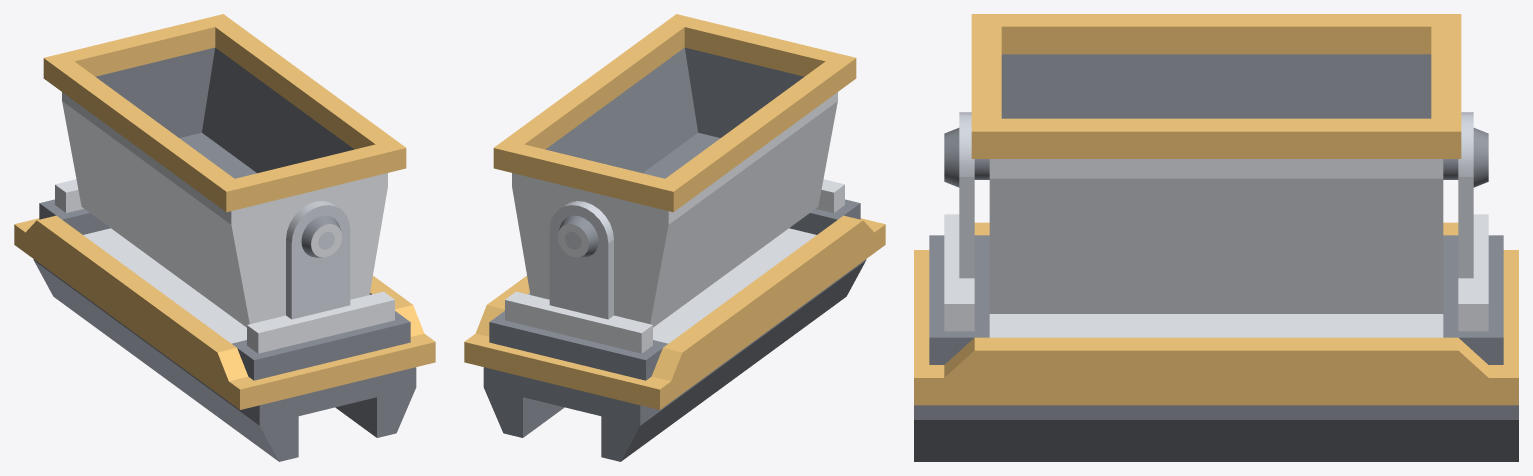
The model's file is monorailtrainCargo-col.glb.
3 views of the same model, side by side, from view 1: azimuth 30°, elevation 25°; view 2: azimuth 150°, elevation 25°; view 3: azimuth 270°, elevation 25° (orthographic). The views are drawn at different scales.
Parts seen in each view (by area): view 1: monorailtrainCargo-col; view 2: monorailtrainCargo-col; view 3: monorailtrainCargo-col.
Boxes of the visible parts, x1,y1,x2,y2 form: monorailtrainCargo-col: (14, 14, 435, 461); monorailtrainCargo-col: (464, 14, 885, 461); monorailtrainCargo-col: (914, 14, 1518, 461).
Bounding box in the file's own units: 0.5 × 0.64 × 1.
